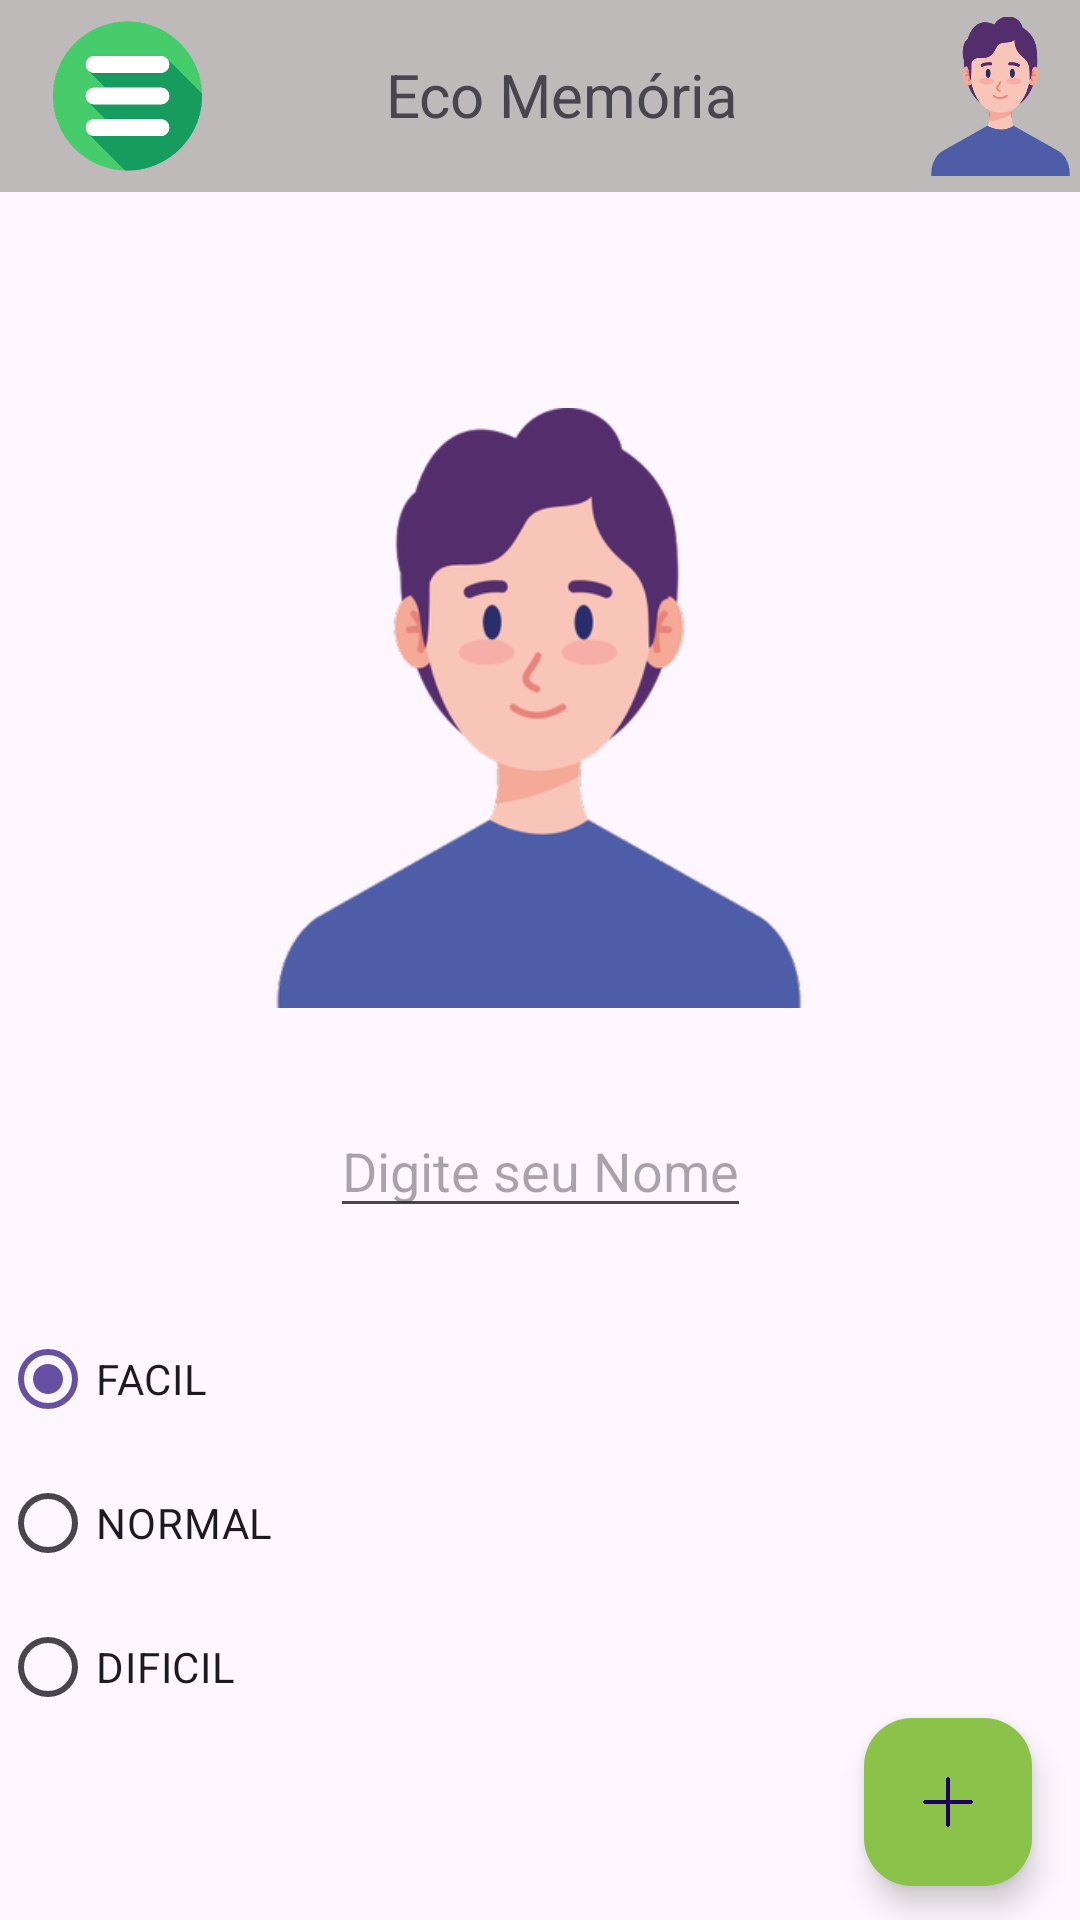

Screen size 1080*1920. Icon name, then its box in pixels as (x1, y1, x2, y2):
abrir menu: (53, 21, 202, 171)
Iniciar Partida: (864, 1718, 1032, 1886)
